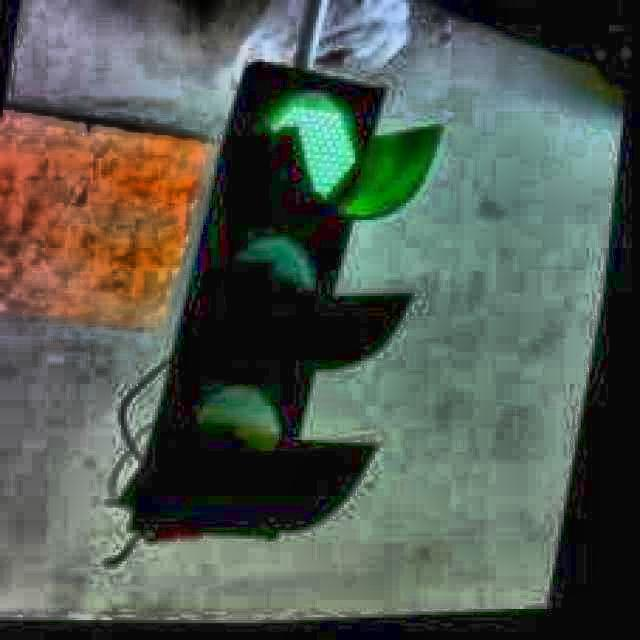green: (172, 65, 384, 526)
